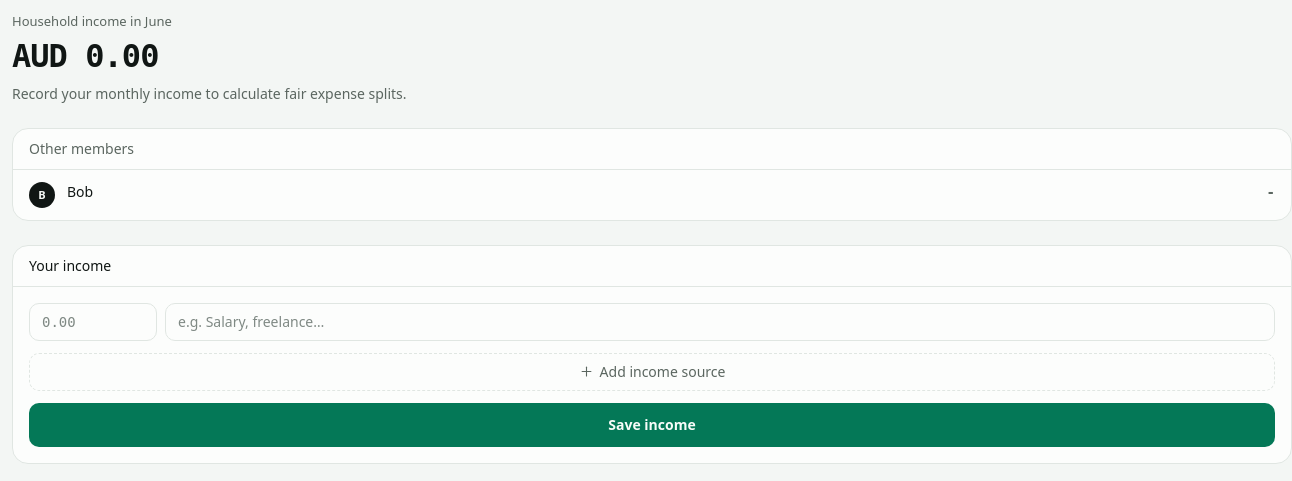
Scenario: IncomeEditor › shows Saved! after successful batch commit
In the number field with placeholder "0.00": (93, 322) [29,302,157,340], type "3000"
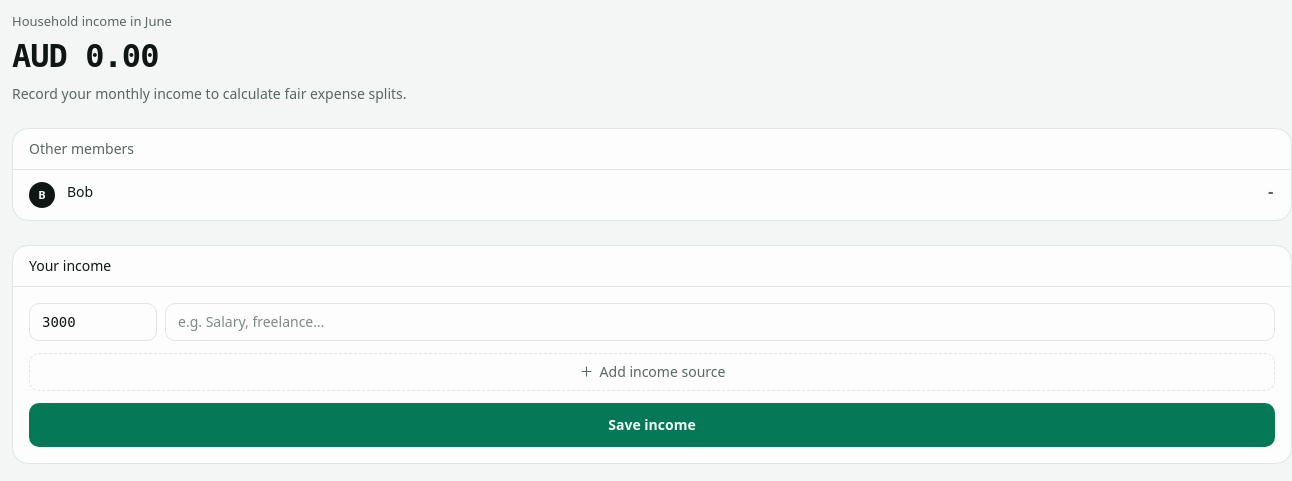
Click the button "Save income": (652, 424) [29,402,1275,446]
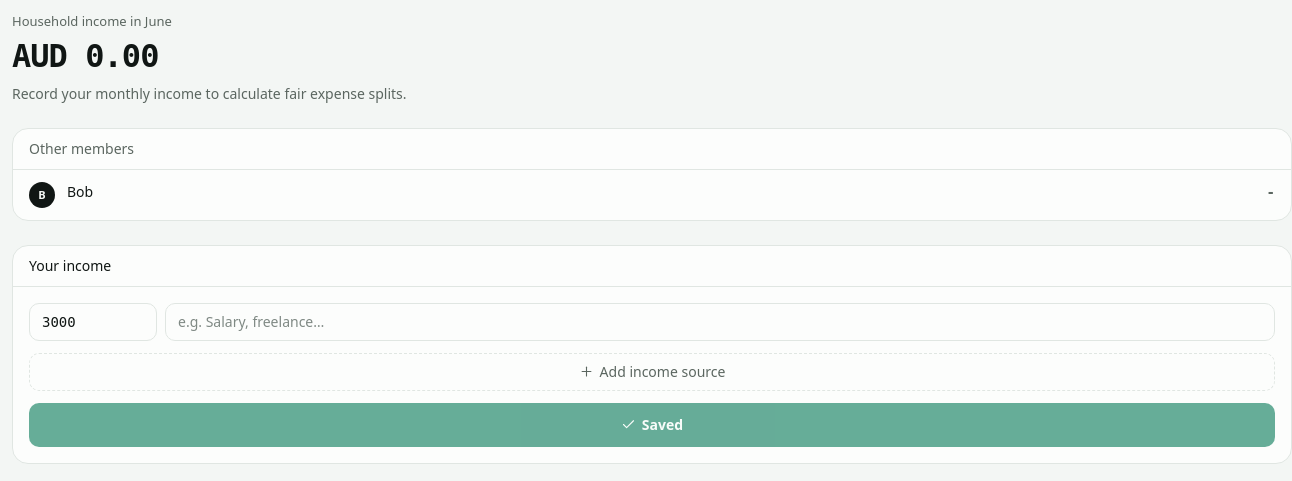
Now the button "Saved" is shown, box [29,402,1275,446]
